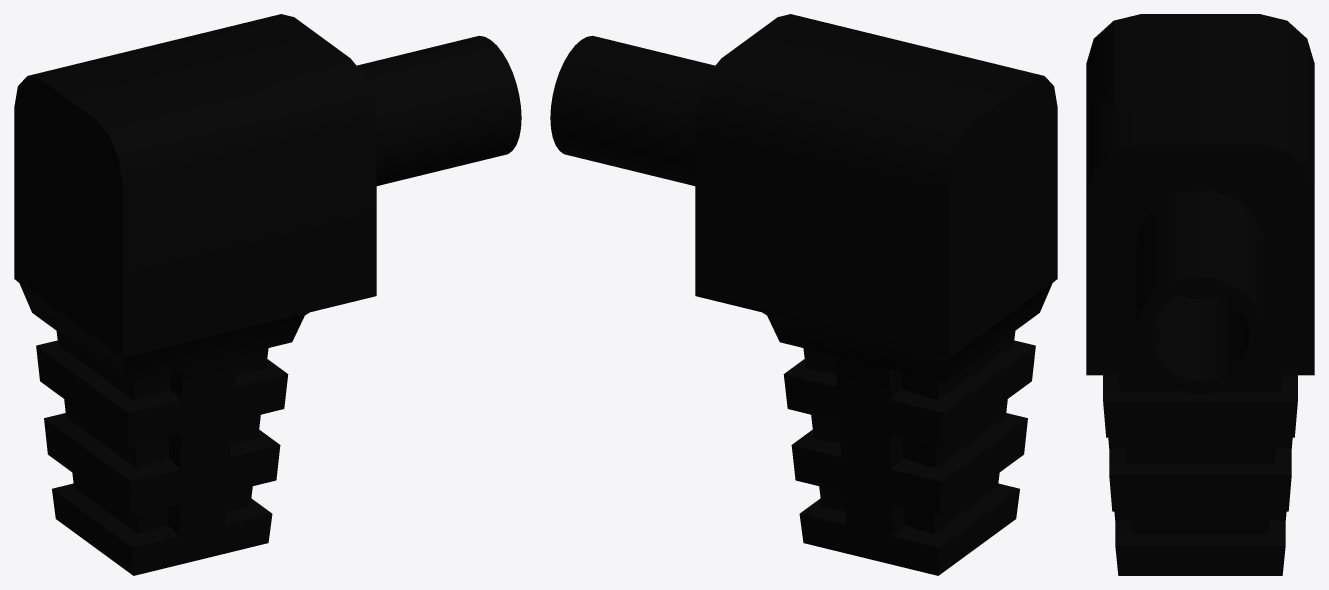
The model's file is Colokan Kecil Hitam.fbx.
3 views of the same model, side by side, from view 1: azimuth 30°, elevation 25°; view 2: azimuth 150°, elevation 25°; view 3: azimuth 270°, elevation 25° (orthographic). The views are drawn at different scales.
Parts seen in each view (by area): view 1: Cube; view 2: Cube; view 3: Cube.
Part boxes in pixels (box(x1,y1,x2,y2)): Cube: box(14, 14, 521, 575); Cube: box(550, 14, 1057, 575); Cube: box(1086, 14, 1314, 575).
Bounding box in the file's own units: 7.89 × 8.1 × 3.5.
Materials: 1 (1 with a texture image).
